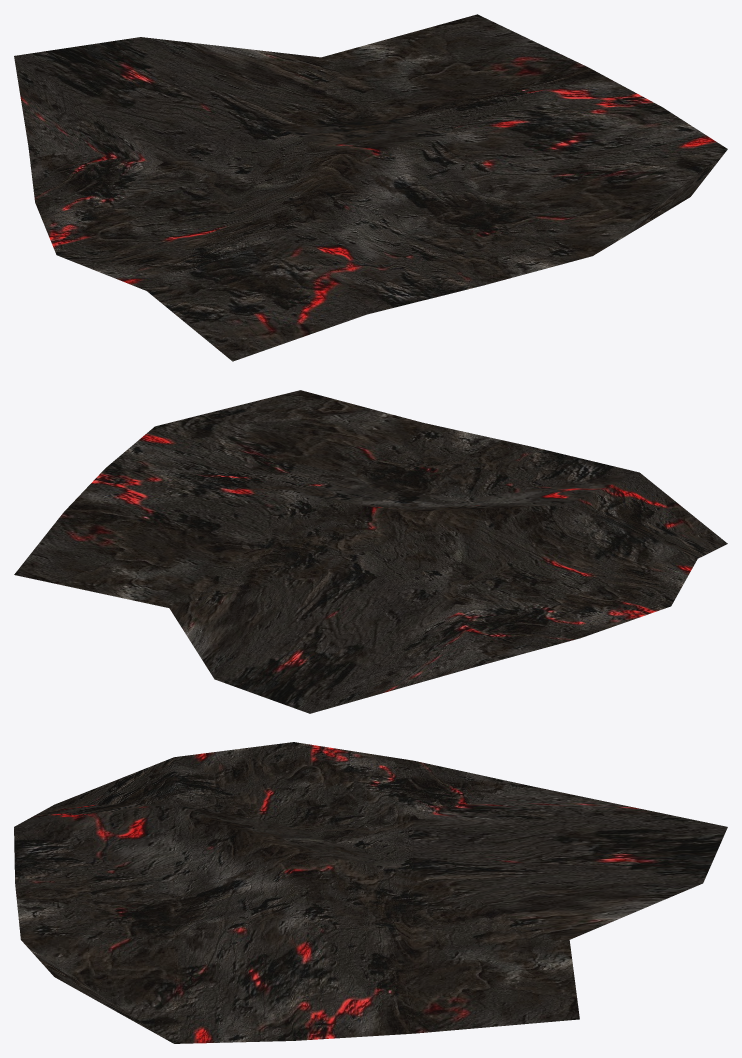
The model's file is Volcano Floor.FBX.
The picture shows the model from 3 angles, top to bottom: view 1: azimuth 30°, elevation 25°; view 2: azimuth 150°, elevation 25°; view 3: azimuth 270°, elevation 25°; orthographic projection. The views are drawn at different scales.
Parts seen in each view (by area): view 1: Plane001; view 2: Plane001; view 3: Plane001.
Part boxes in pixels (x1,y1,x2,y2): Plane001: (14,14,727,361); Plane001: (14,390,727,713); Plane001: (14,742,727,1043).
Bounding box in the file's own units: 122 × 12.25 × 122.
